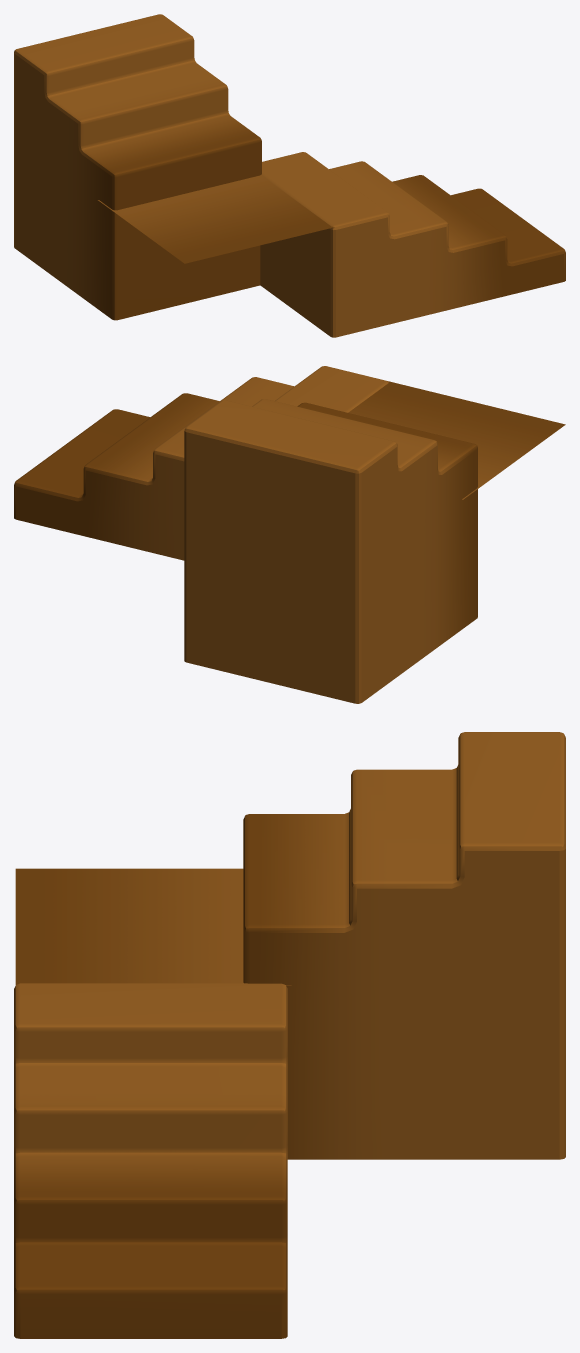
File: Grp_Stairs.fbx
3 renders of one model, top to bottom at view 1: azimuth 30°, elevation 25°; view 2: azimuth 150°, elevation 25°; view 3: azimuth 270°, elevation 25°, orthographic. The views are drawn at different scales.
Visible parts, largest first — view 1: SM_Stairs_04, SM_Stairs_03, SM_Stairs_05; view 2: SM_Stairs_04, SM_Stairs_03, SM_Stairs_05; view 3: SM_Stairs_04, SM_Stairs_03, SM_Stairs_05.
Part boxes in pixels (x1,y1,x2,y2): SM_Stairs_04: [14, 14, 261, 320]; SM_Stairs_03: [260, 152, 565, 337]; SM_Stairs_05: [98, 175, 334, 263]; SM_Stairs_04: [184, 399, 477, 703]; SM_Stairs_03: [14, 366, 388, 560]; SM_Stairs_05: [348, 381, 565, 499]; SM_Stairs_04: [243, 732, 565, 1159]; SM_Stairs_03: [14, 983, 287, 1338]; SM_Stairs_05: [15, 868, 291, 985].
Bounding box in the file's own units: 330 × 163 × 260.
